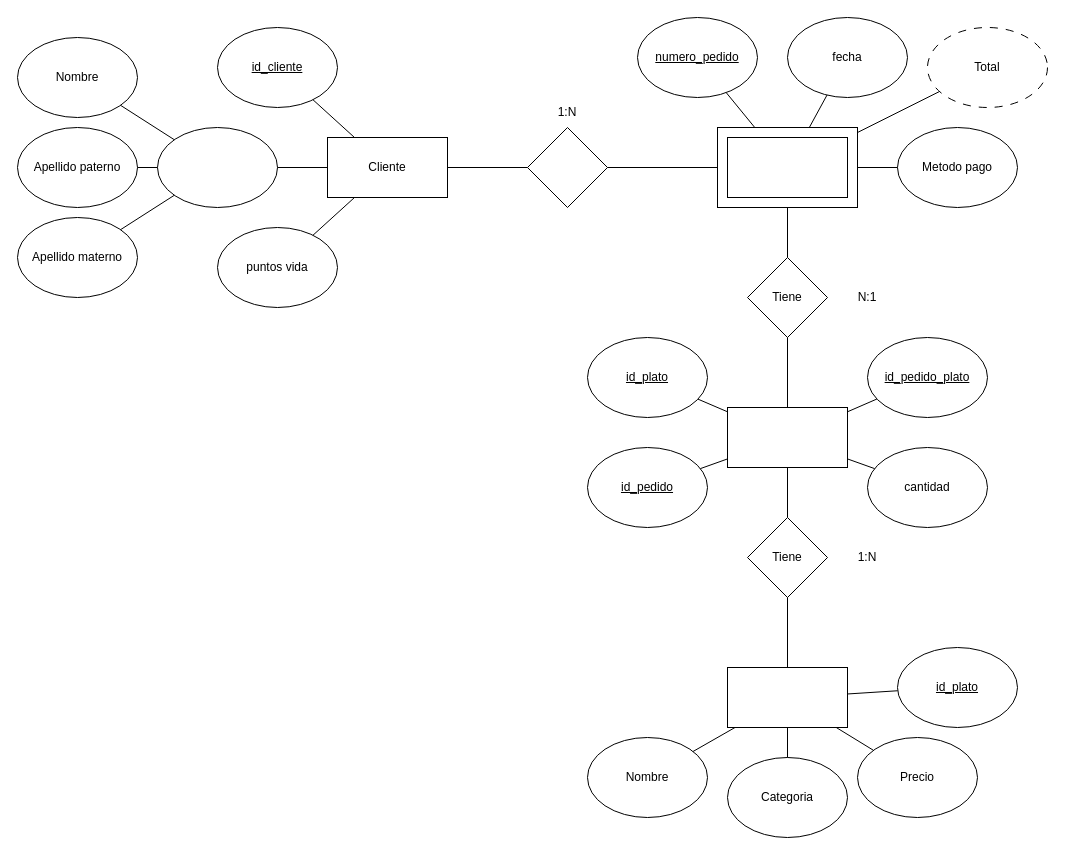
The diagram is 1065 pixels wide and 855 high, and some of its shapes have lost their labels. The centre of each missing label's shape, as x and y in pixels:
"Nombre completo" goes at pixel 217 167.
"Pedido" goes at pixel 787 167.
"Pedido_plato" goes at pixel 787 437.
"Plato" goes at pixel 787 697.
"Realiza" goes at pixel 567 167.
